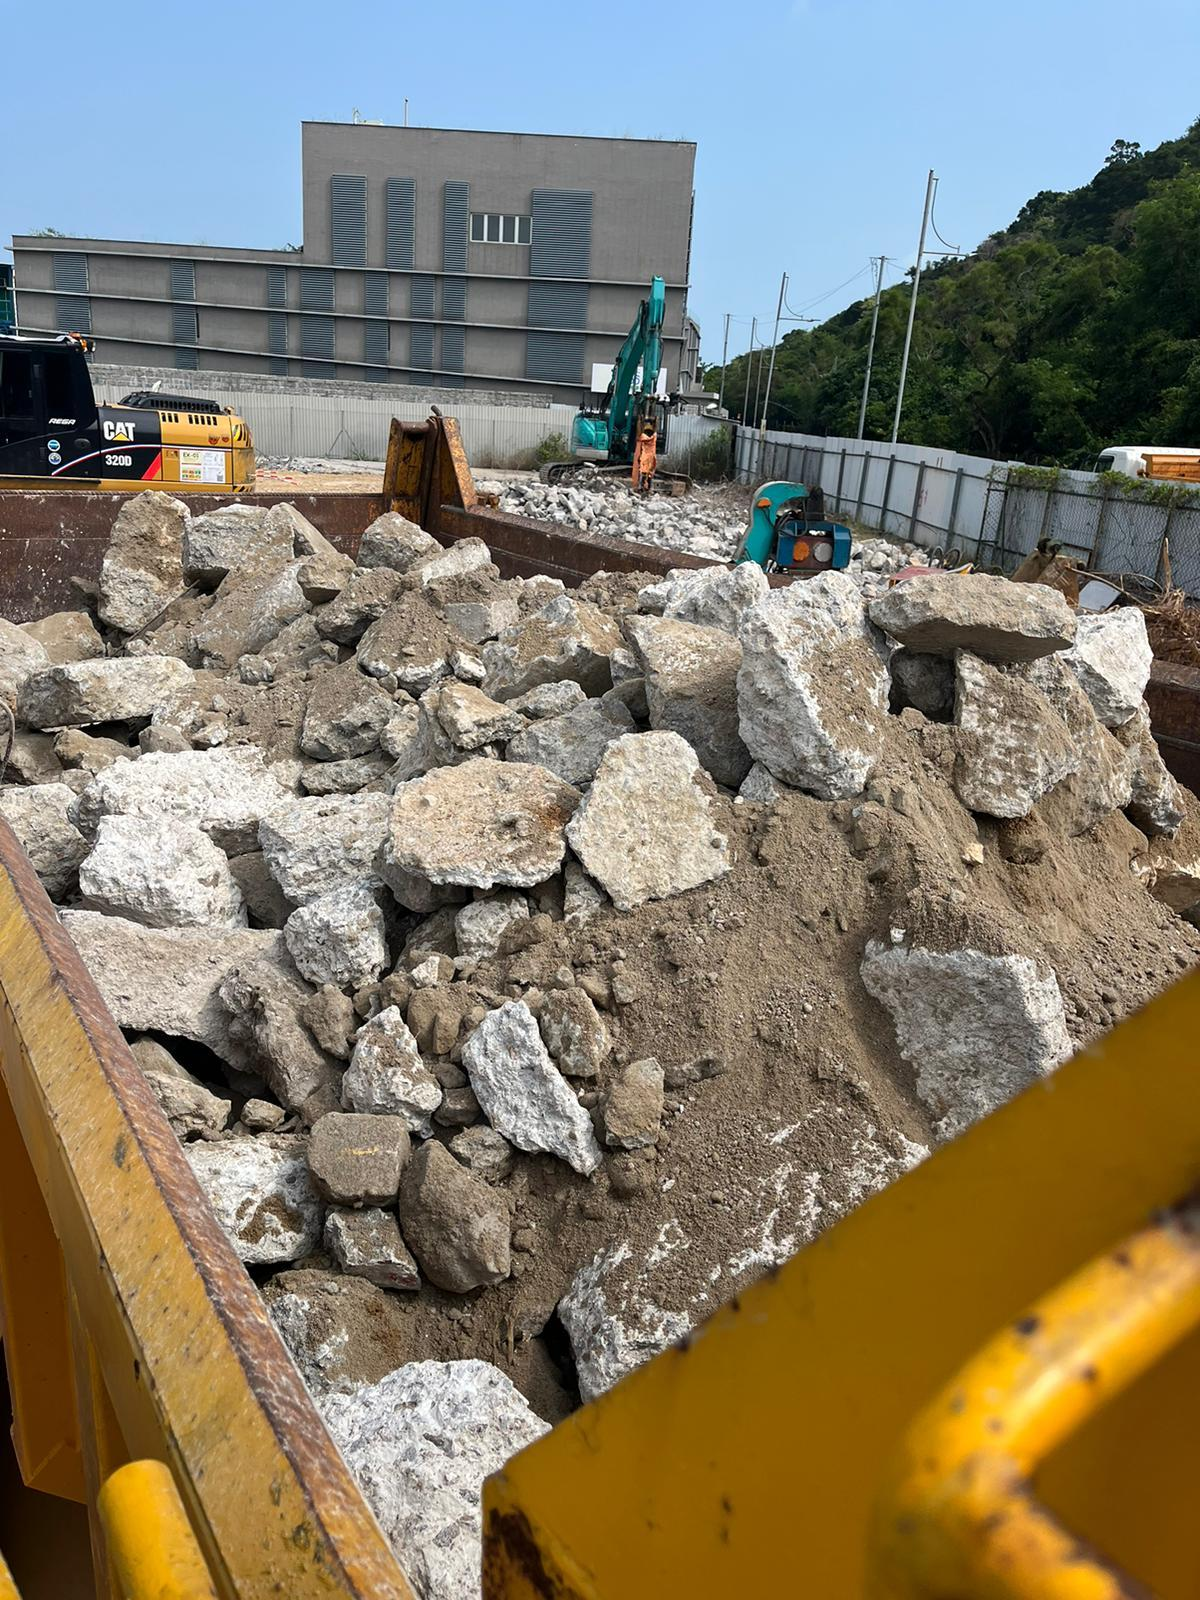dry: (0, 510, 1182, 1592)
